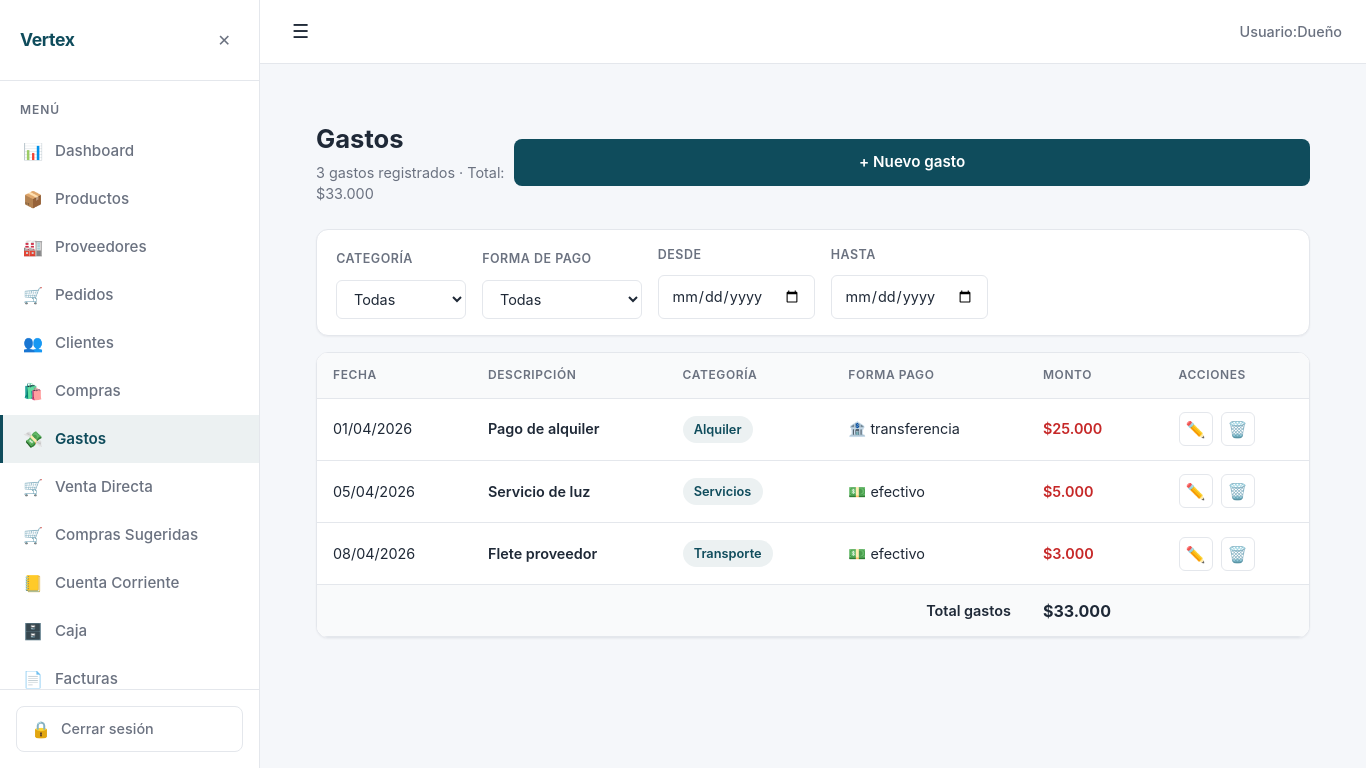
Test: Gastos › debería filtrar por categoría
Select "Alquiler" in the 1st dropdown at x=401, y=300, box left=336, top=280, right=466, bottom=319
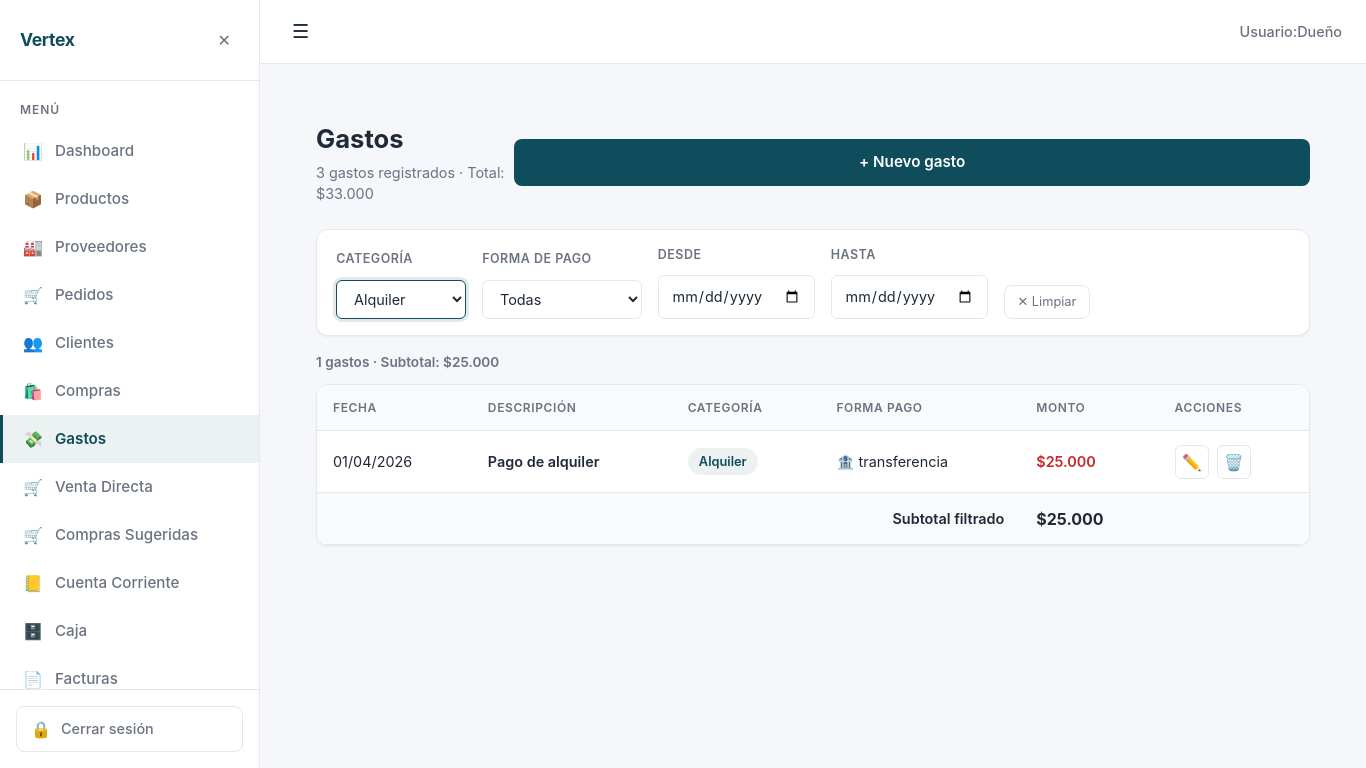
Check: the text "Servicio de luz" is gone
Check: the text "Flete proveedor" is gone
Check: the text "Subtotal: $25.000" is shown, box left=316, top=354, right=499, bottom=370
